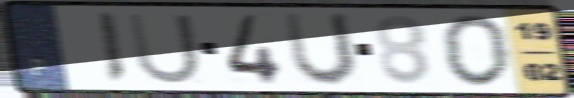4: (224, 11, 285, 87)
8: (372, 13, 435, 88)
I: (94, 11, 129, 86)
O: (438, 12, 514, 89)
U: (279, 10, 361, 89), (124, 10, 204, 86)
